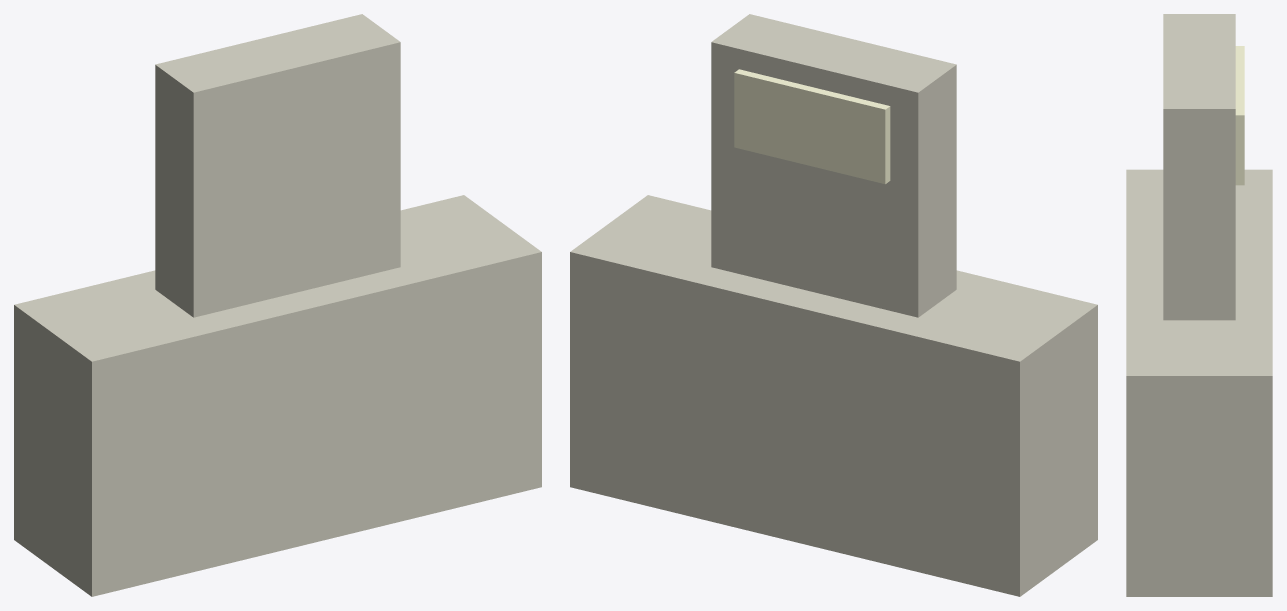
The model's file is props17.fbx.
3 views of the same model, side by side, from view 1: azimuth 30°, elevation 25°; view 2: azimuth 150°, elevation 25°; view 3: azimuth 270°, elevation 25° (orthographic). The views are drawn at different scales.
Visible parts, largest first — view 1: Cube_2; view 2: Cube_2; view 3: Cube_2.
Part boxes in pixels (left/top/right/bottom): Cube_2: left=14, top=14, right=541, bottom=596; Cube_2: left=570, top=14, right=1097, bottom=596; Cube_2: left=1126, top=14, right=1272, bottom=596.
Size of the model in its own units: 105 by 102 by 31.36.
